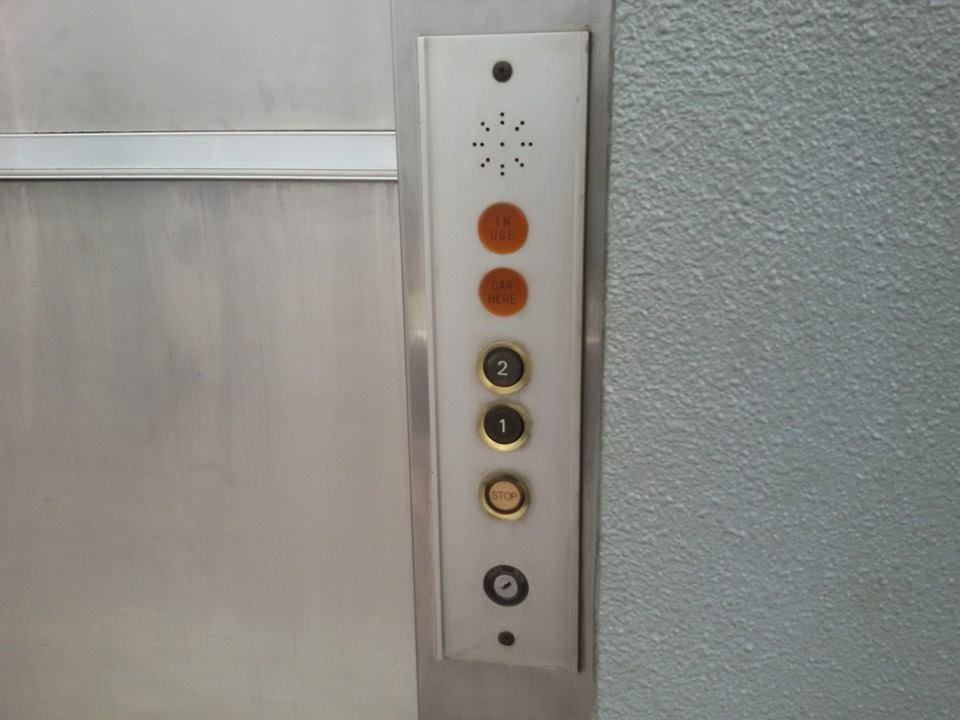1: (476, 398, 533, 457)
2: (475, 338, 533, 396)
keyhole: (480, 557, 530, 610)
text_car here: (477, 265, 527, 318)
text_in use: (476, 200, 528, 255)
text_stop: (475, 468, 534, 525)
